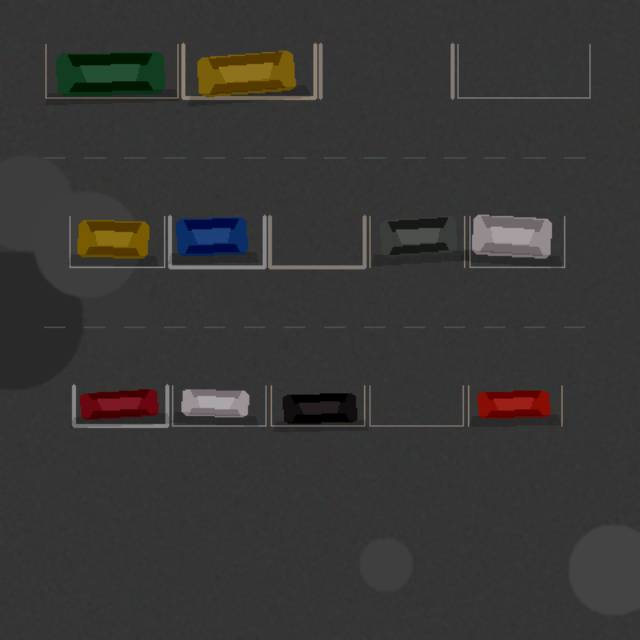space-empty: (320, 44, 452, 97), (457, 44, 589, 97), (269, 216, 364, 267), (369, 385, 463, 425)
space-occupied: (45, 44, 177, 97), (183, 44, 315, 97), (69, 216, 164, 267), (169, 216, 264, 267), (369, 216, 464, 267), (469, 216, 564, 267), (73, 385, 167, 425), (172, 385, 265, 425), (271, 385, 364, 425), (468, 385, 561, 425)
